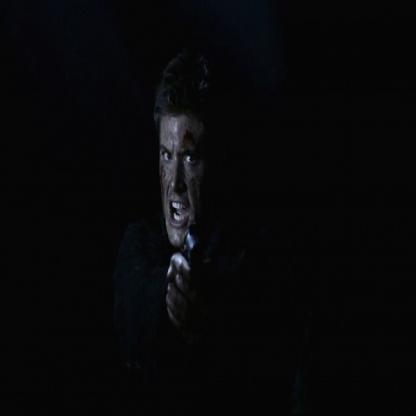Guns: (180, 218, 208, 285)
